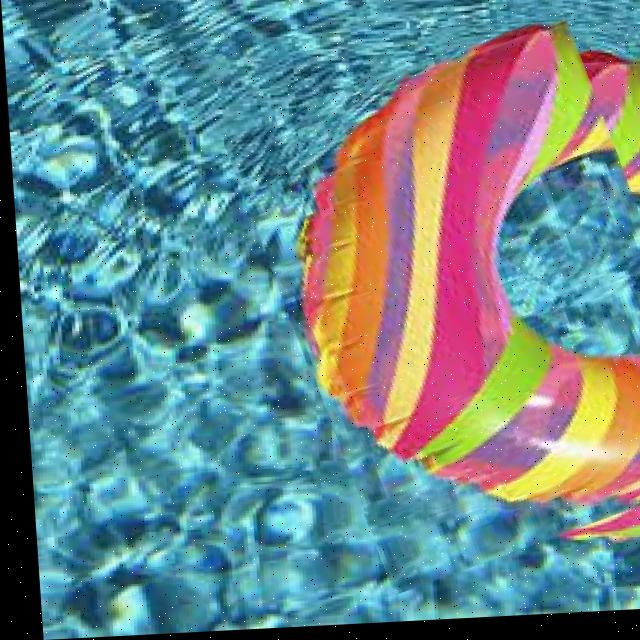litter: (303, 27, 640, 510)
